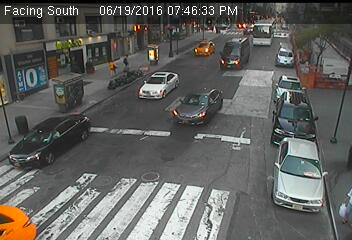neg: (105, 58, 121, 79), (171, 39, 184, 56), (315, 51, 325, 65)
pos: (119, 52, 134, 72)
